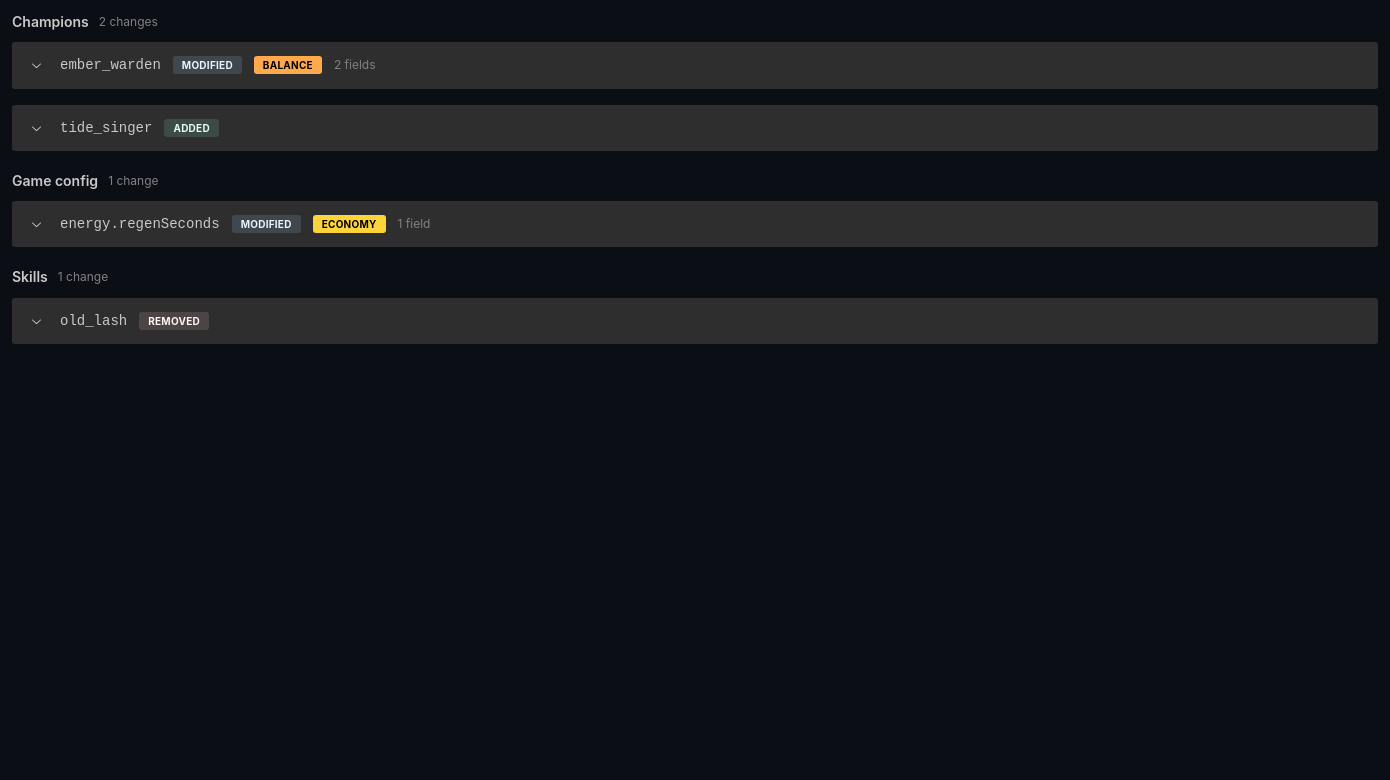
DiffViewer › shows both sides of a nested object change
Click the text "ember_warden": x=110, y=65 60,55 -> 161,76
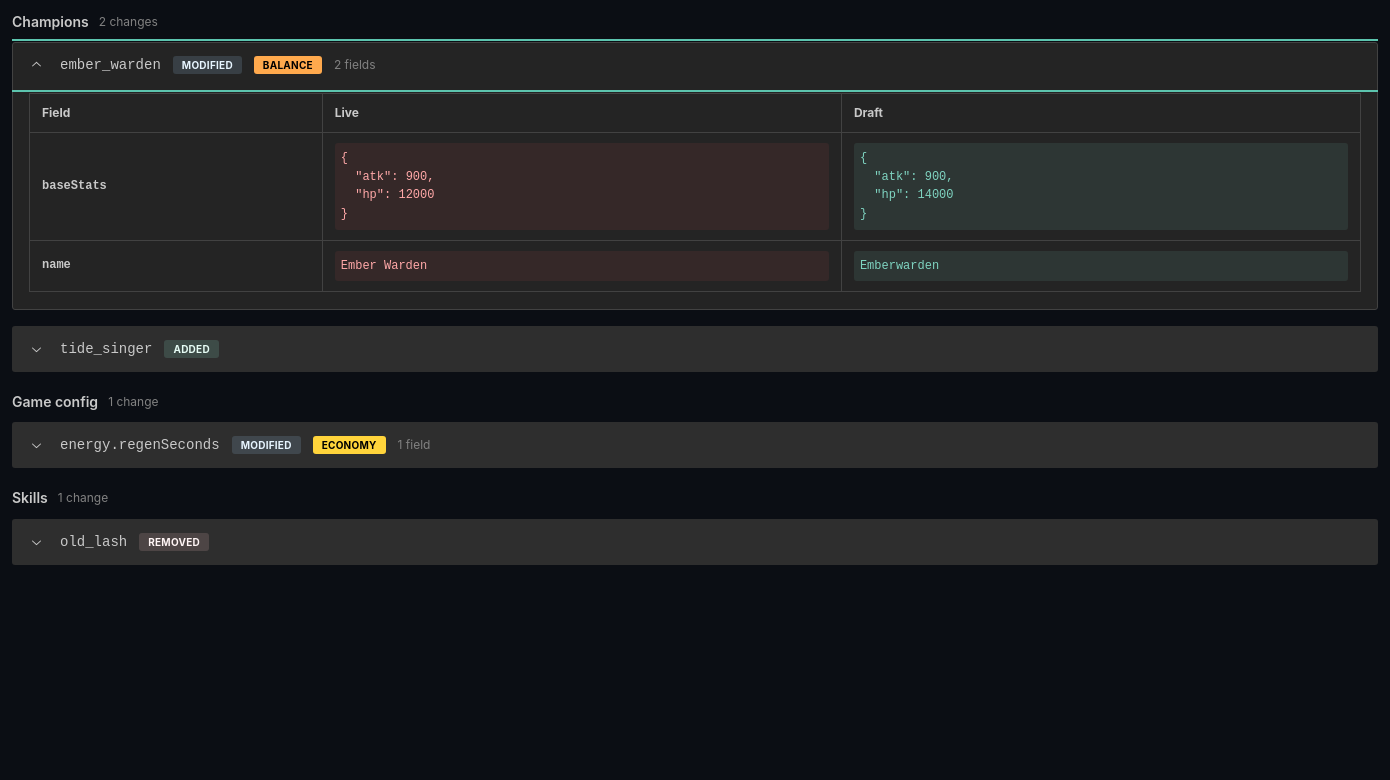
Expected: the text "{ \"atk\": 900, \"hp\": 12000 }" is shown, 341,151 -> 434,221
Expected: the text "{ \"atk\": 900, \"hp\": 14000 }" is shown, 860,151 -> 954,221
